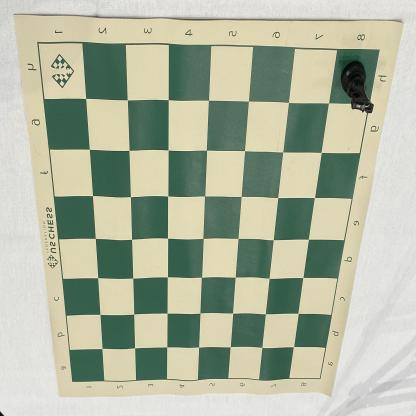black-knight: (340, 61, 374, 113)
